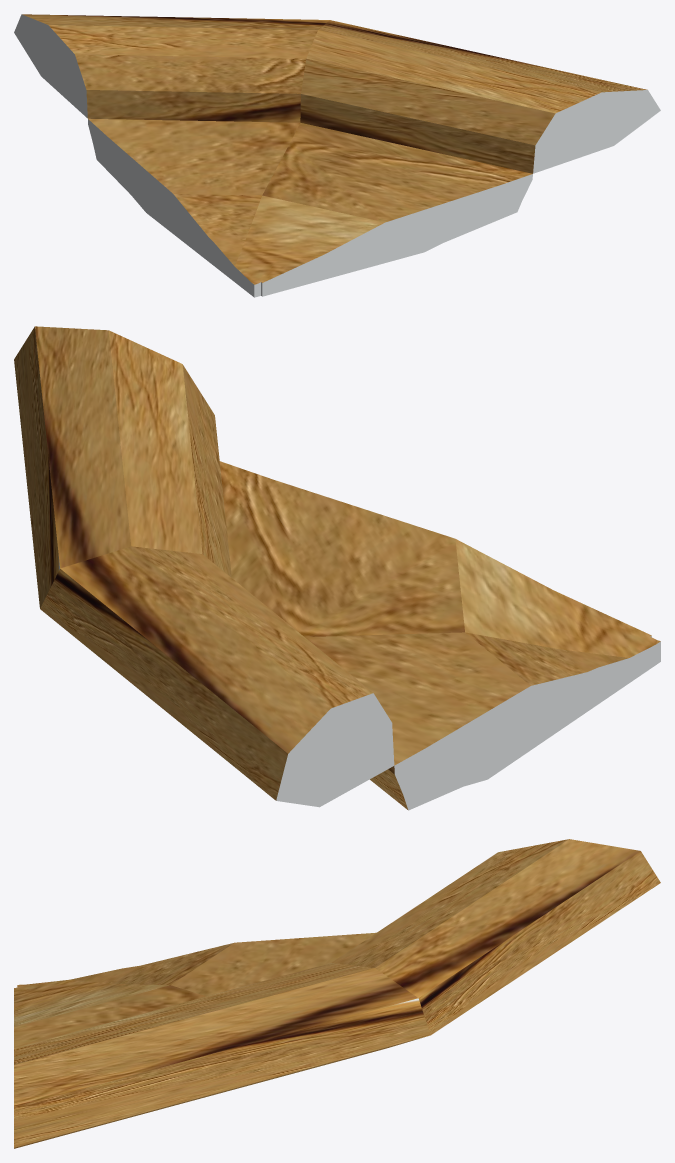
File: rec3.gltf
3 renders of one model, top to bottom at view 1: azimuth 30°, elevation 25°; view 2: azimuth 150°, elevation 25°; view 3: azimuth 270°, elevation 25°, orthographic. The views are drawn at different scales.
Visible parts, largest first — view 1: 평면; view 2: 평면; view 3: 평면.
Part boxes in pixels (x1,y1,x2,y2): 평면: [14, 14, 660, 297]; 평면: [14, 326, 660, 810]; 평면: [14, 839, 660, 1148].
Bounding box in the file's own units: 0.3378 × 0.0969 × 0.3487.
1 material, 1 textured.
